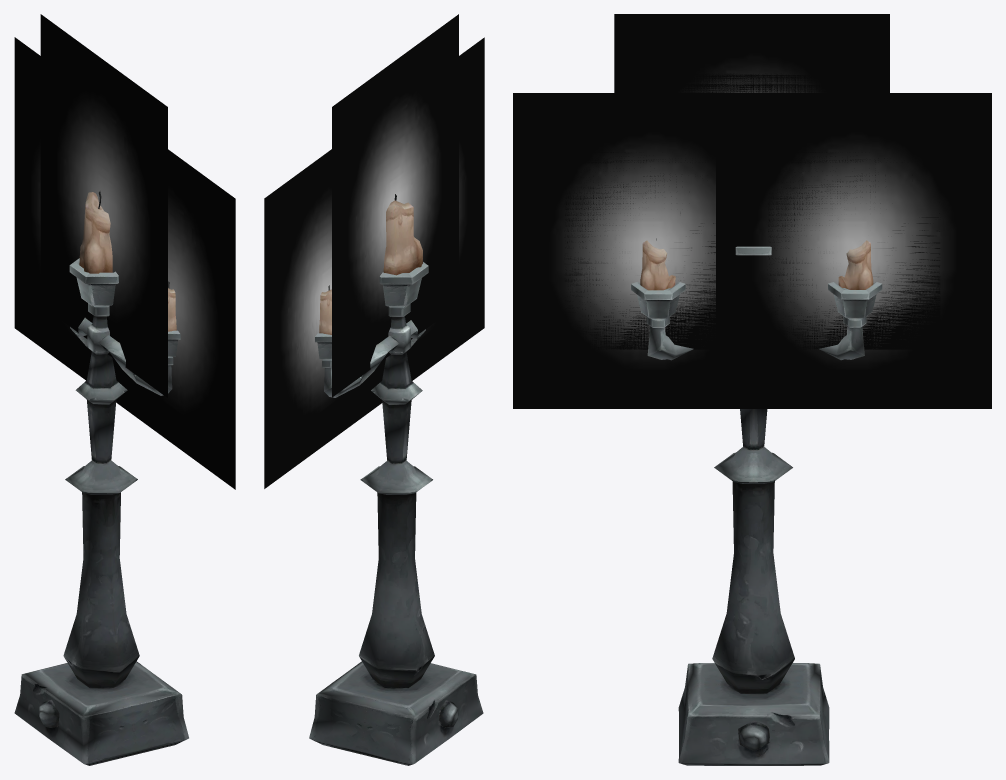
3 renders of one model, left to right at view 1: azimuth 30°, elevation 25°; view 2: azimuth 150°, elevation 25°; view 3: azimuth 270°, elevation 25°, orthographic. The views are drawn at different scales.
Size of the model in its own units: 0.6849 by 3.58 by 2.13.
2 materials, 2 textured.
